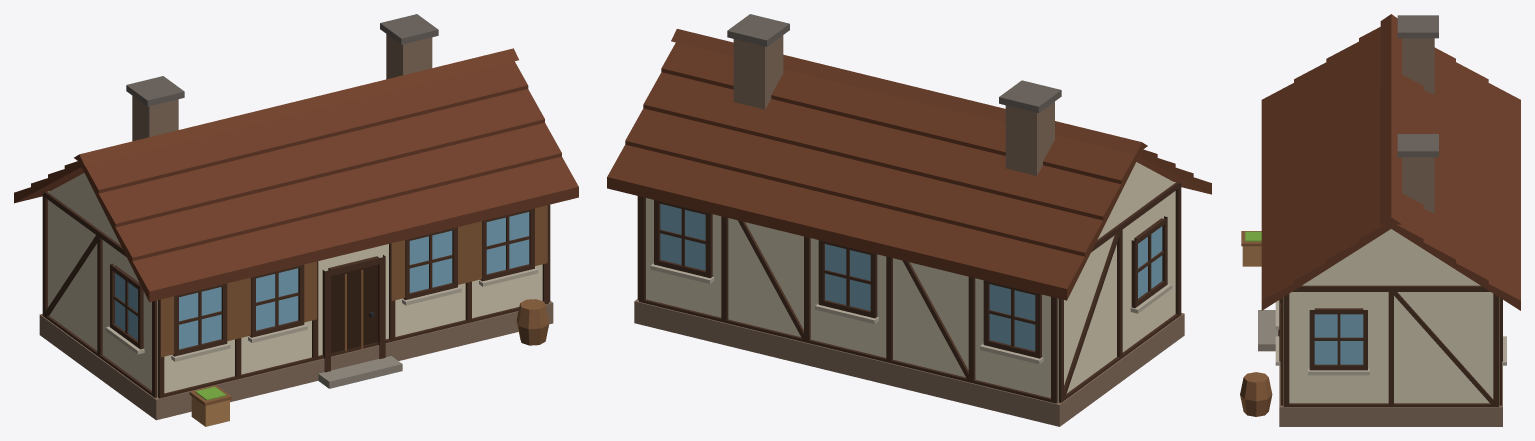
File: house_04_longhouse.fbx
3 views of the same model, side by side, from view 1: azimuth 30°, elevation 25°; view 2: azimuth 150°, elevation 25°; view 3: azimuth 270°, elevation 25° (orthographic). The views are drawn at different scales.
Visible parts, largest first — view 1: house_04_longhouse; view 2: house_04_longhouse; view 3: house_04_longhouse.
Part boxes in pixels (bbox=[...]): house_04_longhouse: bbox=[14, 14, 578, 426]; house_04_longhouse: bbox=[607, 14, 1211, 426]; house_04_longhouse: bbox=[1240, 14, 1520, 426].
Size of the model in its own units: 8.9 by 5.12 by 5.2.
